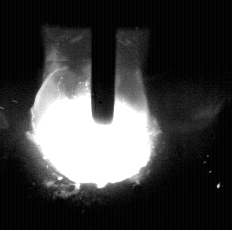arame: (92, 0, 115, 125)
poca: (32, 0, 151, 230)
